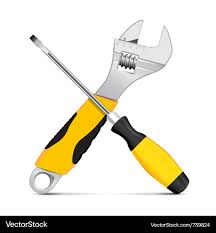Screwdriver: (4, 20, 200, 208)
Wrench: (14, 2, 200, 201)
